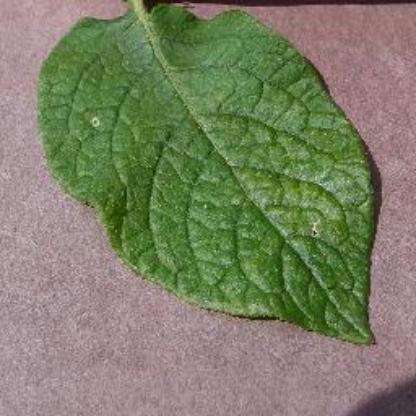Healthy-plant: (31, 3, 390, 352)
